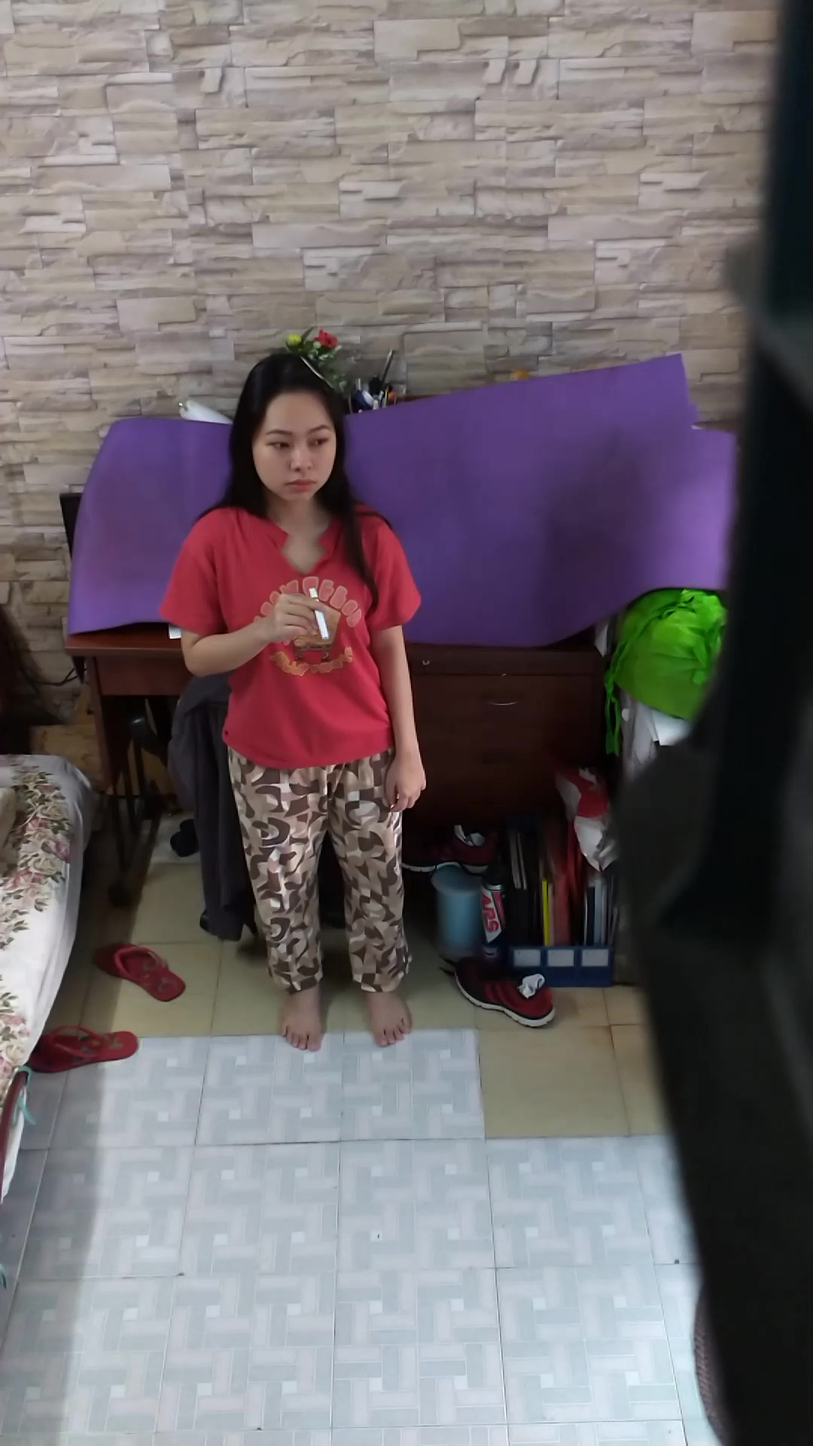cigarette: (312, 609, 333, 644)
person: (161, 343, 428, 1066)
